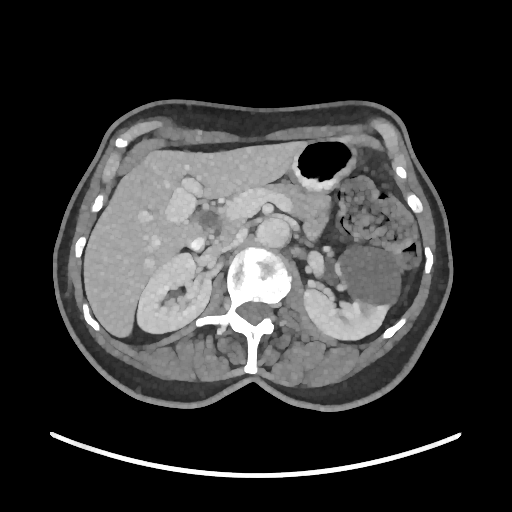Lesion: (335, 242, 403, 307)
